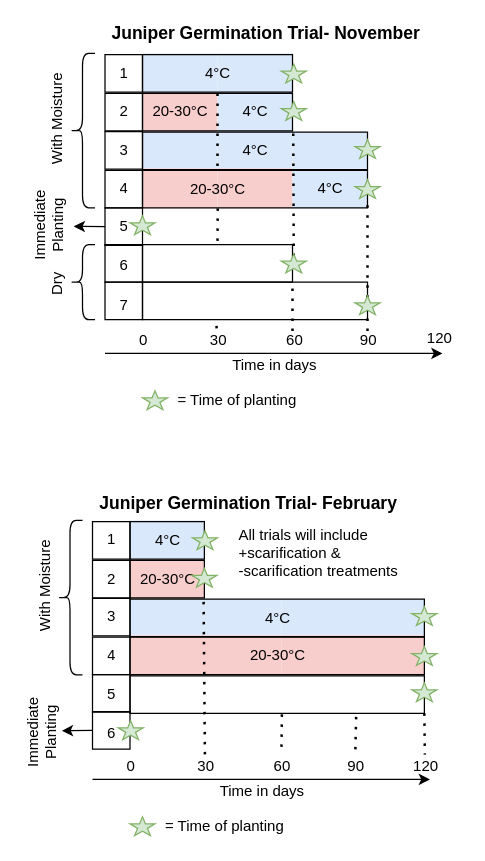
The diagram is 485 pixels wide and 861 high, and some of its shapes have lost their labels. The shapes that lost their labels are listed below. From the top down, each one's box as (x1, y1, x2, y2) in pixels, then its label:
(141, 243, 292, 282): Room Temp. (20 °C )
(141, 281, 368, 320): Room Temp (20 °C)
(129, 675, 424, 713): Outside in cones
